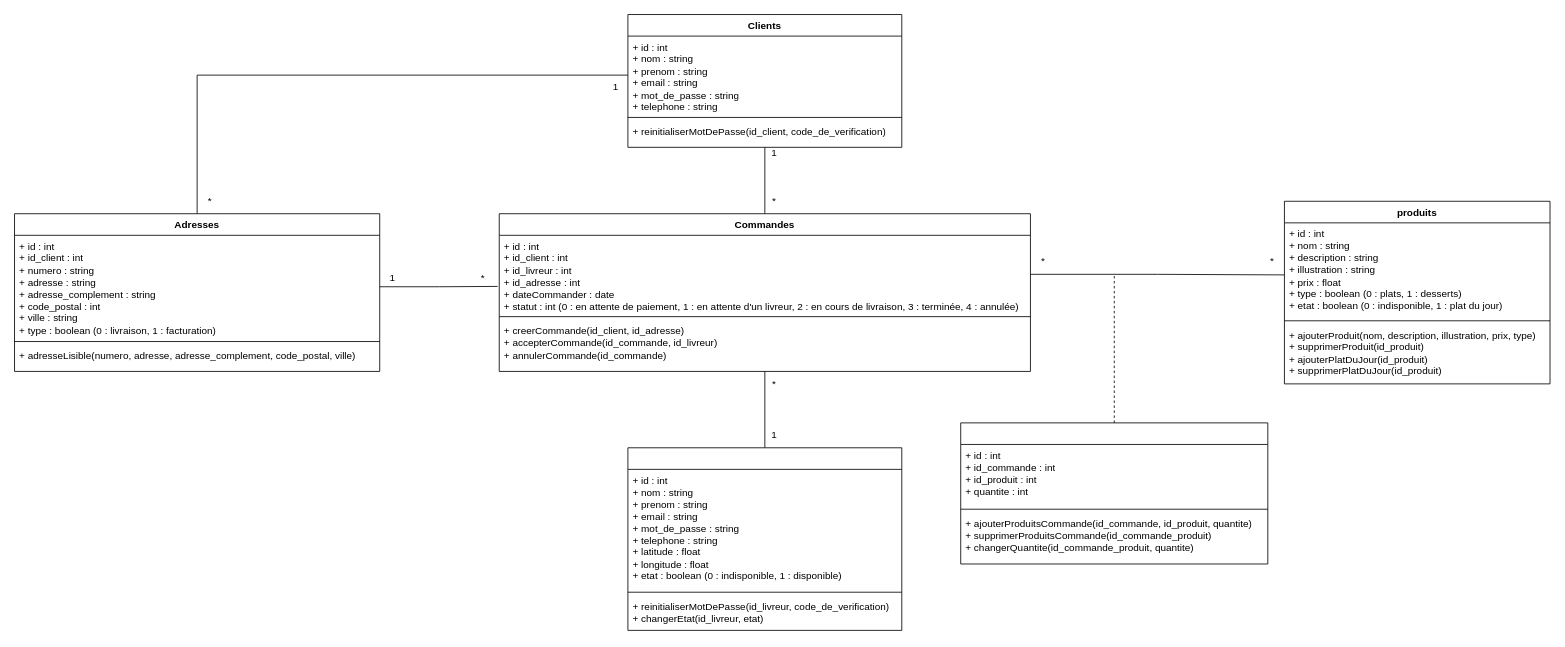
Some shapes in this 1565 by 647 pixel diagram are drawn without their labels. The box of each missing label's shape, as (x1, y1, x2, y2) in pixels:
Commandes_produits: (960, 422, 1268, 564)
Livreurs: (627, 447, 902, 630)
